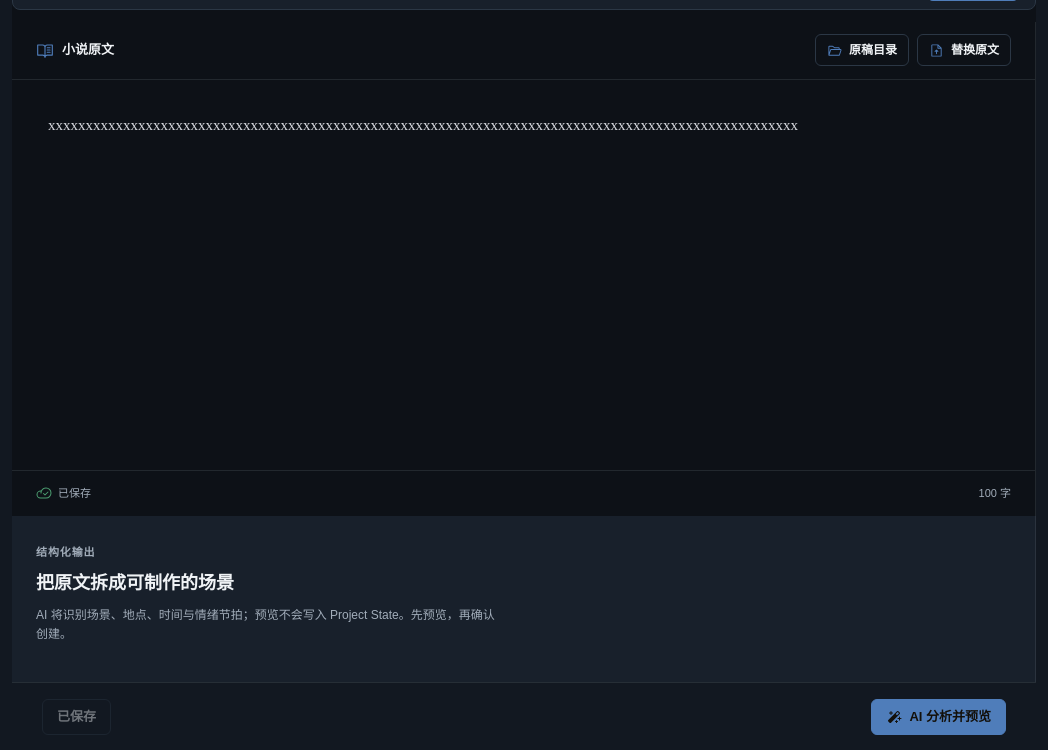
Test: EpisodePanel (P2-E1-T02) › 预览后显示分块范围/成本，且候选默认决策为合并/新建
The image size is (1048, 750).
(page scrolled)
Click the button "AI 分析并预览". click: (939, 717)
box: [871,699,1006,735]
(page scrolled)
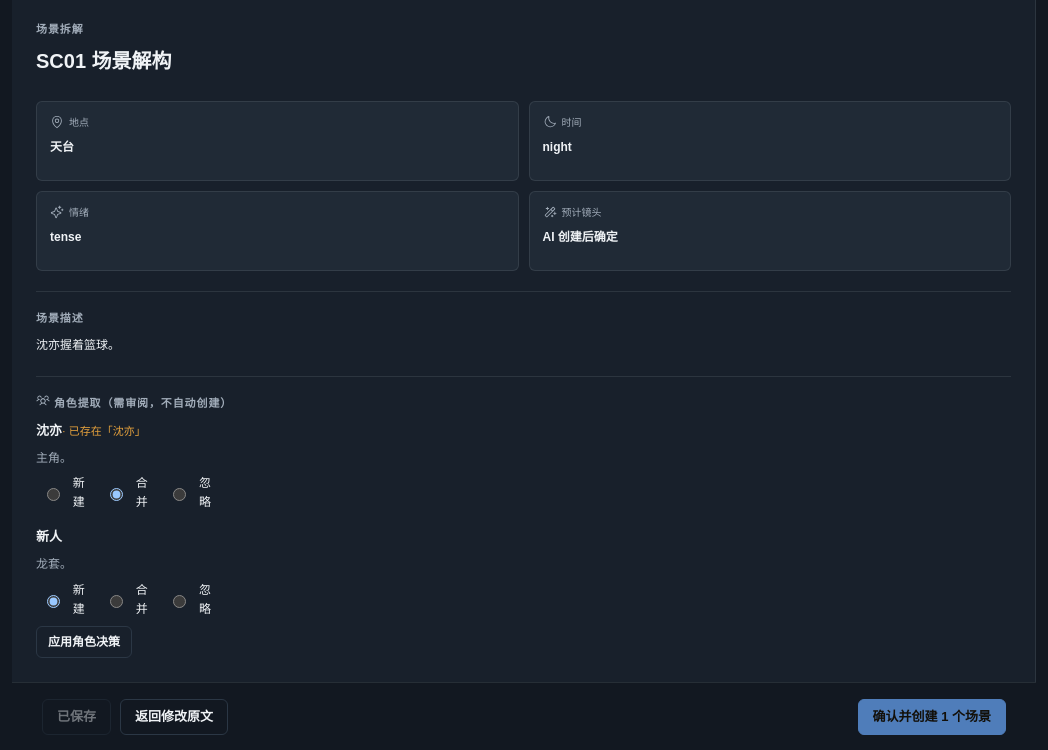
Now the text "沈亦" is shown, box [36,423,62,438]
Now the text "· 已存在「沈亦」" is shown, box [62,425,146,437]
